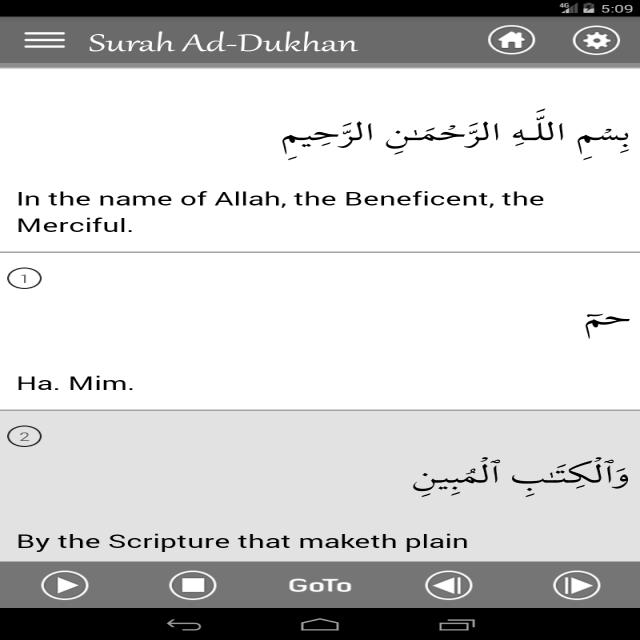ImageButton: (547, 568, 605, 602), (418, 569, 476, 601), (483, 23, 536, 57), (572, 22, 622, 57), (39, 569, 91, 601), (170, 567, 220, 599), (22, 29, 67, 49)
TextView: (14, 188, 547, 235), (274, 107, 636, 161), (18, 530, 470, 554), (401, 454, 634, 498), (87, 31, 367, 55), (7, 372, 137, 392), (574, 310, 634, 340), (285, 576, 354, 594)
